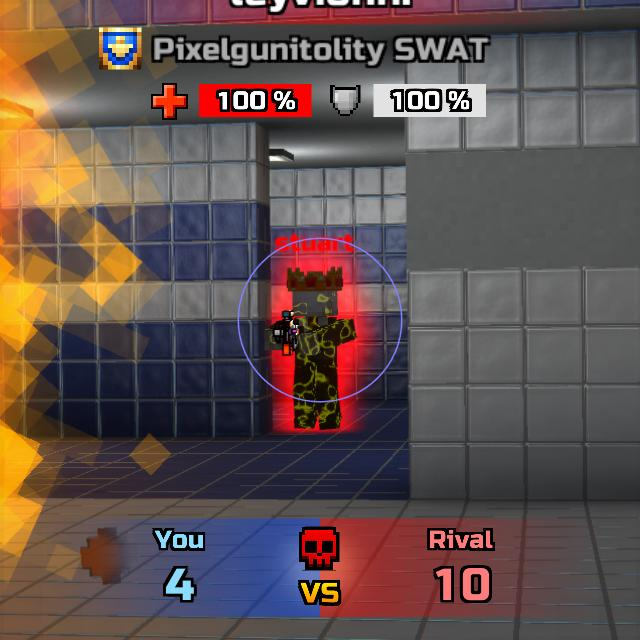Enemy: (266, 269, 356, 430)
